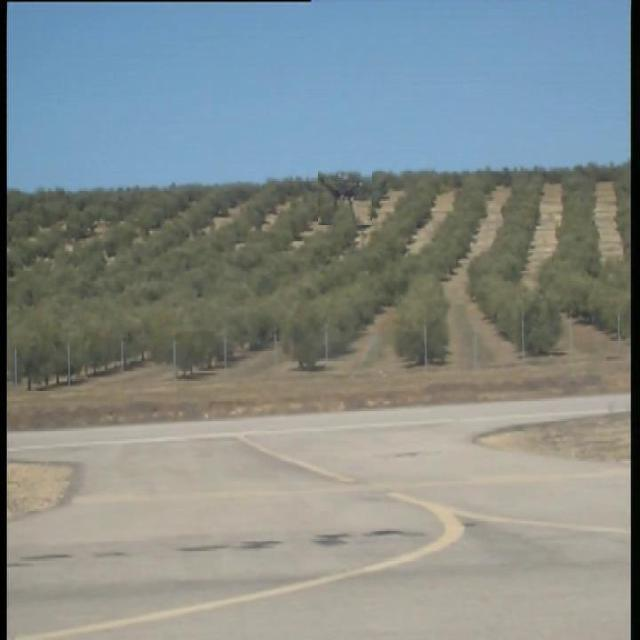drone: (318, 166, 372, 226)
